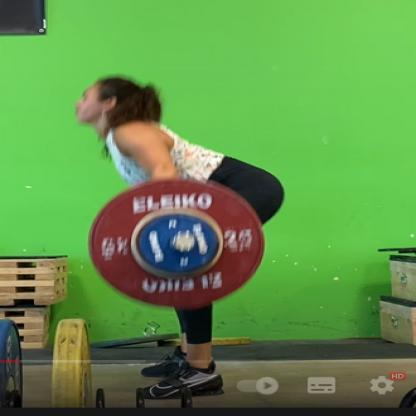barbell: (91, 179, 264, 311), (314, 317, 316, 317)
